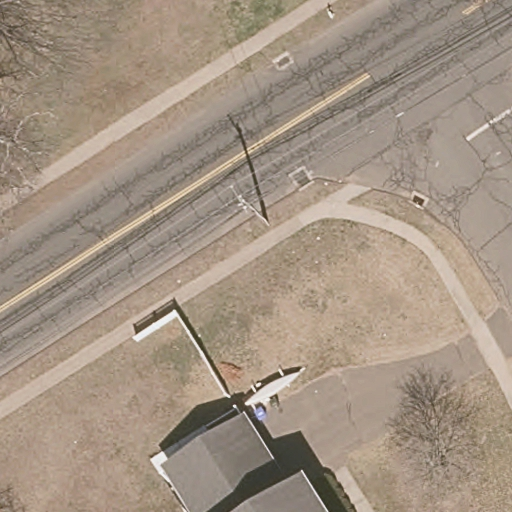DT: (227, 183, 271, 229)
